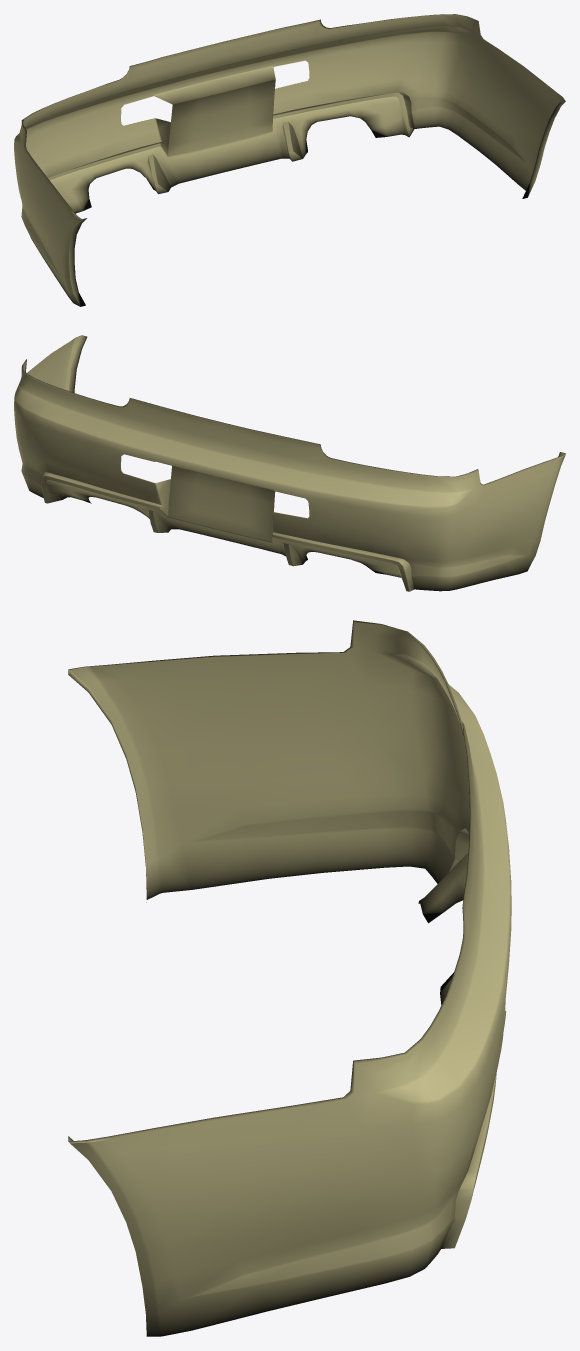
Rendered from R34_BB01_Duco.fbx.
The picture shows the model from 3 angles, top to bottom: view 1: azimuth 30°, elevation 25°; view 2: azimuth 150°, elevation 25°; view 3: azimuth 270°, elevation 25°; orthographic projection. The views are drawn at different scales.
Parts seen in each view (by area): view 1: R34_BB01_Duco; view 2: R34_BB01_Duco; view 3: R34_BB01_Duco.
Part boxes in pixels (x1=…): R34_BB01_Duco: x1=14, y1=14, x2=565, y2=306; R34_BB01_Duco: x1=14, y1=335, x2=565, y2=591; R34_BB01_Duco: x1=68, y1=620, x2=511, y2=1336.
Bounding box in the file's own units: 178 × 52.93 × 70.08.
